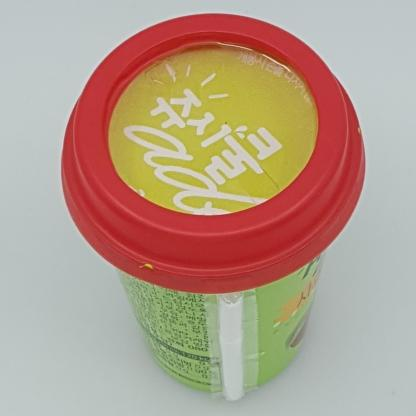--------: (61, 13, 365, 402)
